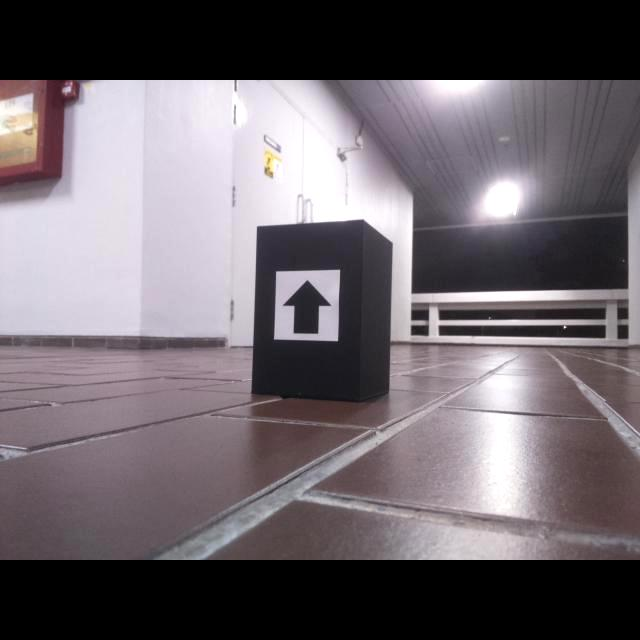UP: (282, 279, 331, 335)
